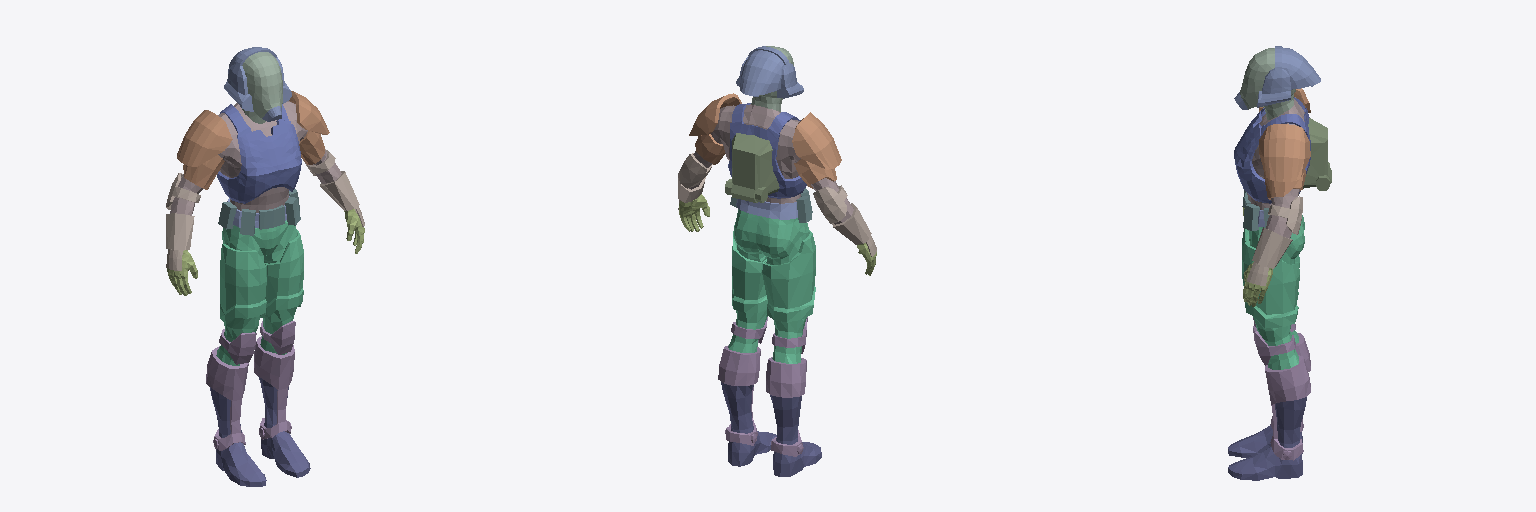
3 renders of one model, left to right at view 1: azimuth 30°, elevation 25°; view 2: azimuth 150°, elevation 25°; view 3: azimuth 270°, elevation 25°, orthographic.
Parts seen in each view (by area): view 1: 24_leg-armor02-bmn-archetype_1_16_16, 24_boot-tall-bmn-heavy-tr-a02-shin_1_16_16, 24_chest-tight-bmn-heavy-tr-a02-plate_1_16_16, 24_chest-tight-bmn-heavy-tr-a02-shld_1_16_16, 24_boot-tall-bmn-archetype_1_16_16, 24_chest-tight-bmn-archetype_1_16_16, 24_hand-glove-bmn-heavy-tr-a02-bracer_1_16_16, 24_face-trhelmet02-bmn-archetype_1_16_16, 24_waist-belt-bmn-heavy-tr-a02-front_1_16_16, 24_face-trhelmet02-bmn-heavy-tr-a02-back_1_16_16, 24_hand-glove-bmn-archetype_1_16_16; view 2: 24_leg-armor02-bmn-archetype_1_16_16, 24_boot-tall-bmn-heavy-tr-a02-shin_1_16_16, 24_boot-tall-bmn-archetype_1_16_16, 24_chest-tight-bmn-heavy-tr-a02-shld_1_16_16, 24_chest-tight-bmn-archetype_1_16_16, 24_hand-glove-bmn-heavy-tr-a02-bracer_1_16_16, 24_chest-tight-bmn-heavy-tr-a02-back_1_16_16, 24_face-trhelmet02-bmn-heavy-tr-a02-back_1_16_16, 24_chest-tight-bmn-heavy-tr-a02-plate_1_16_16, 24_hand-glove-bmn-archetype_1_16_16, 24_waist-belt-bmn-archetype_1_16_16; view 3: 24_leg-armor02-bmn-archetype_1_16_16, 24_boot-tall-bmn-archetype_1_16_16, 24_chest-tight-bmn-heavy-tr-a02-shld_1_16_16, 24_boot-tall-bmn-heavy-tr-a02-shin_1_16_16, 24_face-trhelmet02-bmn-heavy-tr-a02-back_1_16_16, 24_chest-tight-bmn-heavy-tr-a02-plate_1_16_16, 24_hand-glove-bmn-heavy-tr-a02-bracer_1_16_16, 24_face-trhelmet02-bmn-archetype_1_16_16, 24_chest-tight-bmn-heavy-tr-a02-back_1_16_16, 24_chest-tight-bmn-archetype_1_16_16, 24_hand-glove-bmn-archetype_1_16_16.
Part boxes in pixels (x1,y1,x2,y2): 24_leg-armor02-bmn-archetype_1_16_16: (216,220,303,365); 24_boot-tall-bmn-heavy-tr-a02-shin_1_16_16: (206,321,295,450); 24_chest-tight-bmn-heavy-tr-a02-plate_1_16_16: (217,104,301,203); 24_chest-tight-bmn-heavy-tr-a02-shld_1_16_16: (177,91,329,189); 24_boot-tall-bmn-archetype_1_16_16: (210,376,310,486); 24_chest-tight-bmn-archetype_1_16_16: (170,101,341,215); 24_hand-glove-bmn-heavy-tr-a02-bracer_1_16_16: (166,149,364,270); 24_face-trhelmet02-bmn-archetype_1_16_16: (242,52,282,123); 24_waist-belt-bmn-heavy-tr-a02-front_1_16_16: (218,189,300,235); 24_face-trhelmet02-bmn-heavy-tr-a02-back_1_16_16: (224,47,291,121); 24_hand-glove-bmn-archetype_1_16_16: (167,209,364,295); 24_leg-armor02-bmn-archetype_1_16_16: (728,209,815,363); 24_boot-tall-bmn-heavy-tr-a02-shin_1_16_16: (718,317,807,456); 24_boot-tall-bmn-archetype_1_16_16: (721,382,821,476); 24_chest-tight-bmn-heavy-tr-a02-shld_1_16_16: (689,93,841,188); 24_chest-tight-bmn-archetype_1_16_16: (689,104,853,224); 24_hand-glove-bmn-heavy-tr-a02-bracer_1_16_16: (678,153,876,256); 24_chest-tight-bmn-heavy-tr-a02-back_1_16_16: (725,133,779,202); 24_face-trhelmet02-bmn-heavy-tr-a02-back_1_16_16: (736,46,803,98); 24_chest-tight-bmn-heavy-tr-a02-plate_1_16_16: (728,103,806,198); 24_hand-glove-bmn-archetype_1_16_16: (679,194,876,275); 24_waist-belt-bmn-archetype_1_16_16: (736,199,797,219); 24_leg-armor02-bmn-archetype_1_16_16: (1242,215,1304,369); 24_boot-tall-bmn-archetype_1_16_16: (1228,397,1306,480); 24_chest-tight-bmn-heavy-tr-a02-shld_1_16_16: (1259,88,1310,199); 24_boot-tall-bmn-heavy-tr-a02-shin_1_16_16: (1253,318,1310,460); 24_face-trhelmet02-bmn-heavy-tr-a02-back_1_16_16: (1234,46,1320,109); 24_chest-tight-bmn-heavy-tr-a02-plate_1_16_16: (1234,97,1310,203); 24_hand-glove-bmn-heavy-tr-a02-bracer_1_16_16: (1247,196,1302,285); 24_face-trhelmet02-bmn-archetype_1_16_16: (1240,48,1295,119); 24_chest-tight-bmn-heavy-tr-a02-back_1_16_16: (1303,118,1331,190); 24_chest-tight-bmn-archetype_1_16_16: (1247,97,1304,238); 24_hand-glove-bmn-archetype_1_16_16: (1243,207,1272,306).
Bounding box in the file's own units: 0.7677 × 1.56 × 0.3556.